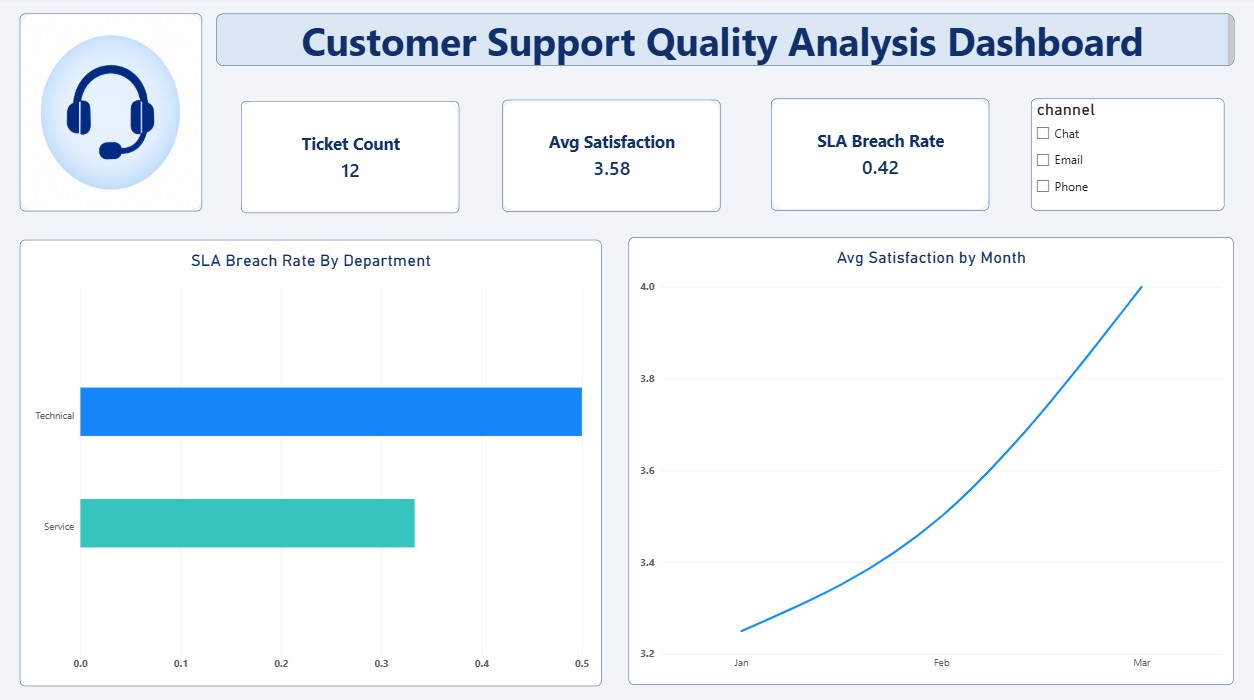

The dashboard page shown, as its layout file describes it:
{"tool":"powerbi","page":{"name":"Page 1","canvas":[1920,1080],"ordinal":0},"visuals":[{"type":"cardVisual","fields":{"Data":["teams.Ticket Count"]},"box":[398,152,316,162],"z":0},{"type":"cardVisual","fields":{"Data":["teams.Avg Satisfaction"]},"box":[776,150,316,162],"z":1},{"type":"cardVisual","fields":{"Data":["teams.SLA Breach Rate"]},"box":[1166,148,316,162],"z":2},{"type":"clusteredBarChart","title":"SLA Breach Rate By Department","fields":{"Category":["teams.department"],"Y":["teams.SLA Breach Rate"]},"box":[78,352,842,646],"z":3},{"type":"lineChart","title":"Avg Satisfaction by Month","fields":{"Category":["tickets.month"],"Y":["teams.Avg Satisfaction"]},"box":[960,350,876,648],"z":4},{"type":"slicer","fields":{"Values":["tickets.channel"]},"box":[1542,147.6,280,162],"z":5},{"type":"textbox","box":[362,26,1474,76],"z":6},{"type":"image","box":[78,26,264,286],"z":7}]}

Visuals, with their boxes in screenshot pixels (x1, y1, x2, y2), scaled from the page's 1920x1080 canvas onto the 1254x700 screenshot:
cardVisual - teams.Ticket Count: [left=260, top=99, right=466, bottom=204]
cardVisual - teams.Avg Satisfaction: [left=507, top=97, right=713, bottom=202]
cardVisual - teams.SLA Breach Rate: [left=762, top=96, right=968, bottom=201]
"SLA Breach Rate By Department" clusteredBarChart: [left=51, top=228, right=601, bottom=647]
"Avg Satisfaction by Month" lineChart: [left=627, top=227, right=1199, bottom=647]
slicer - tickets.channel: [left=1007, top=96, right=1190, bottom=201]
textbox: [left=236, top=17, right=1199, bottom=66]
image: [left=51, top=17, right=223, bottom=202]
